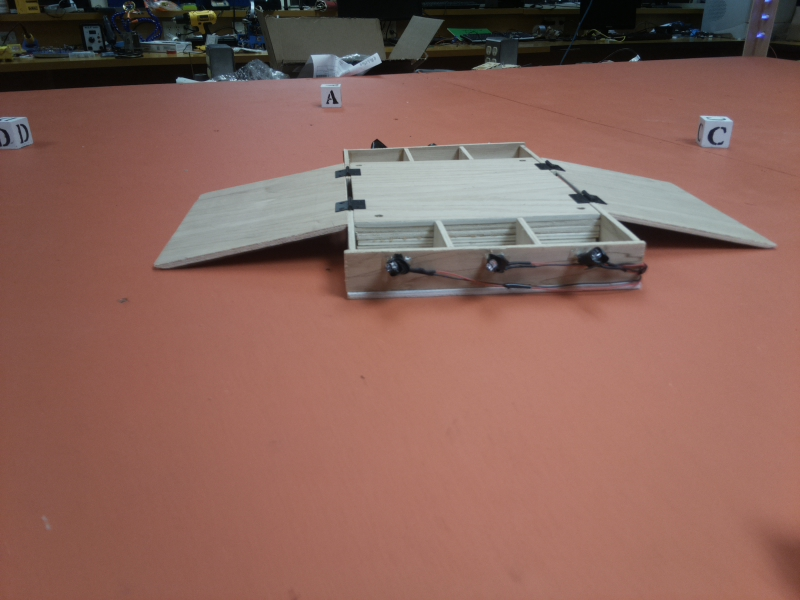blockA: (318, 85, 344, 108)
blockC: (693, 111, 737, 154)
blockD: (1, 114, 37, 151)
corner: (741, 1, 778, 59)
side: (342, 215, 652, 302)
slope: (149, 149, 346, 273), (546, 154, 779, 255)
